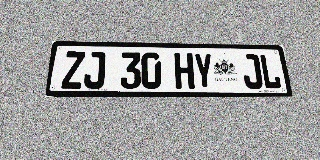0: (141, 52, 161, 89)
3: (120, 52, 141, 89)
H: (174, 53, 195, 89)
J: (83, 51, 106, 89), (241, 54, 263, 89)
L: (259, 54, 282, 89)
Y: (193, 53, 214, 89)
Z: (61, 51, 85, 89)
